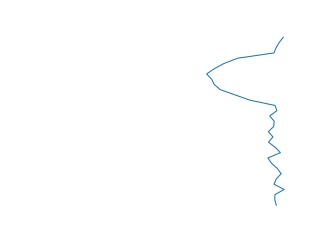distalBar: (199, 37, 294, 206)
